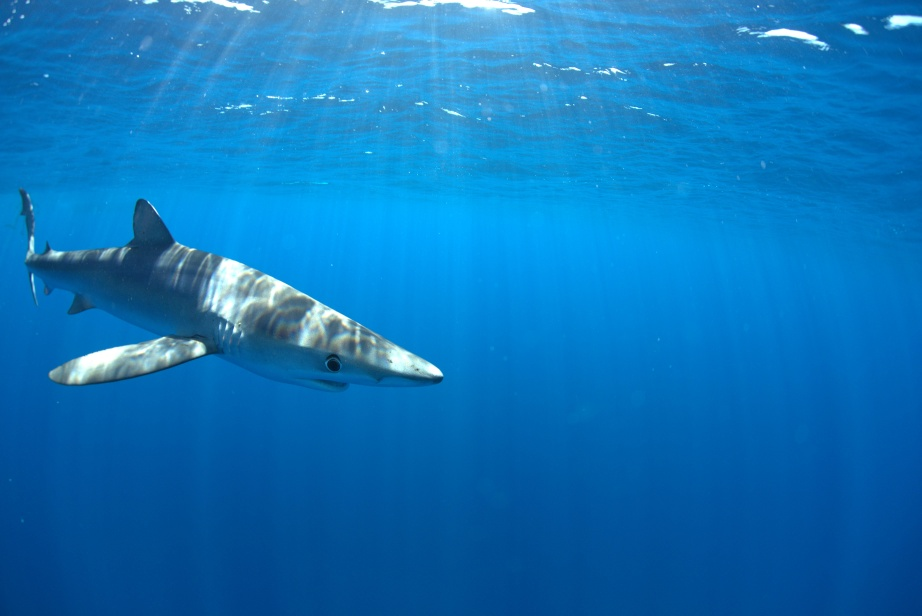Azul: (1, 175, 444, 423)
